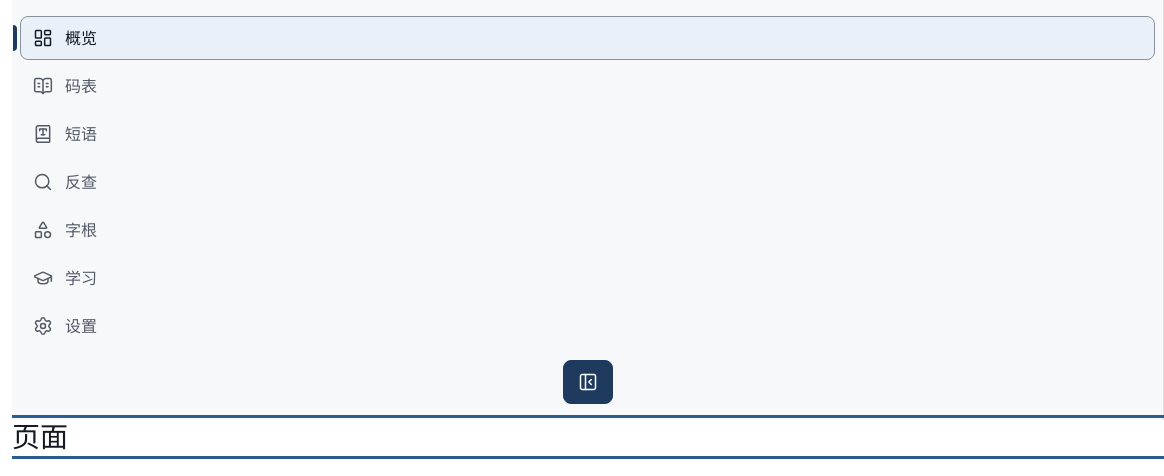
Test case: Sidebar › keeps seven links accessible and synchronizes the collapsed preference
The width and height of the screenshot is (1164, 476).
Check: the button named "折叠侧栏" is shown, box x1=562 y1=360 x2=612 y2=404
Step 1. Click the link "概览" → (81, 38), box x1=20 y1=16 x2=1155 y2=60
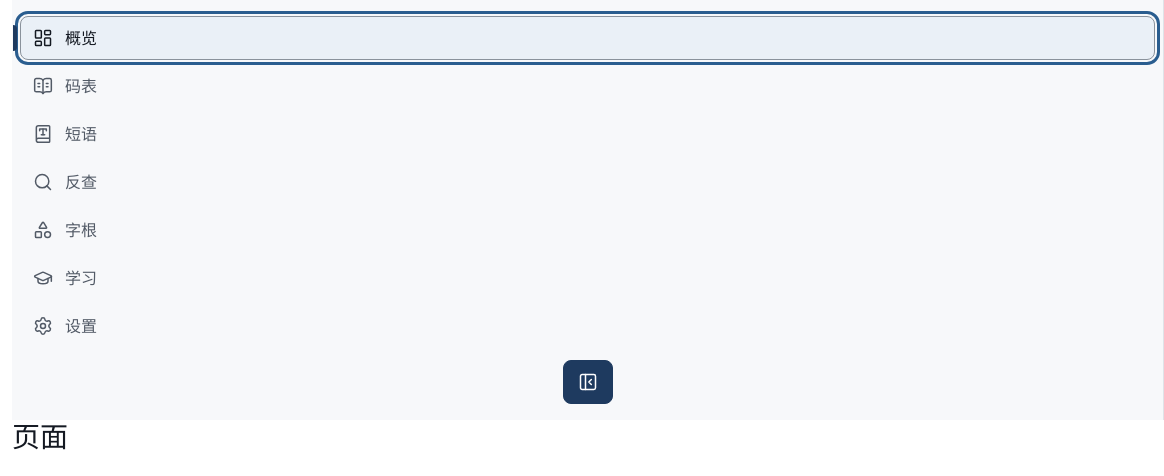
Step 2. Click the button named "折叠侧栏" → (588, 382), box x1=562 y1=360 x2=612 y2=404
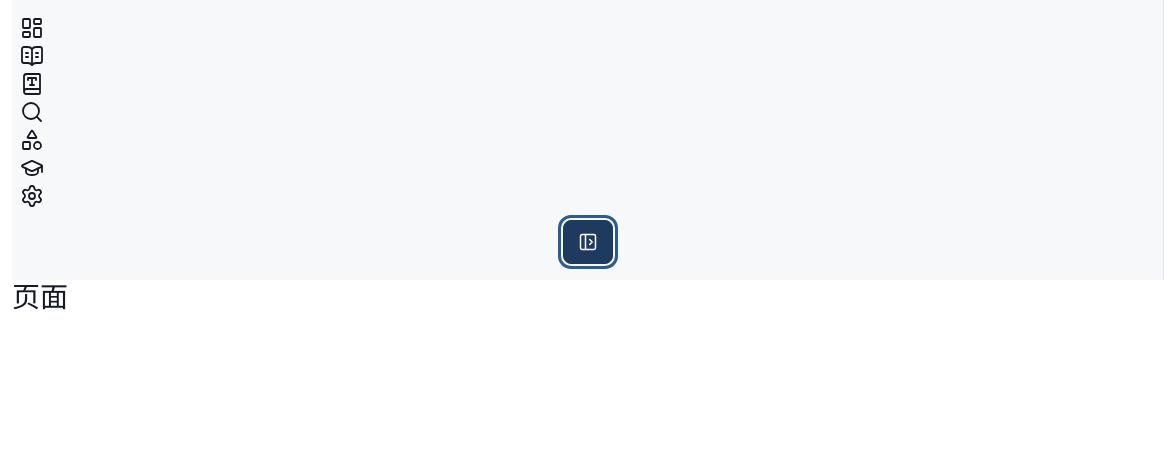
Check: the button named "展开侧栏" is shown, box x1=562 y1=220 x2=612 y2=264
Check: the link named "码表" is shown, box x1=20 y1=44 x2=44 y2=68
Check: the element with class "shell-sidebar" has attribute data-collapsed, box x1=12 y1=0 x2=1163 y2=280
